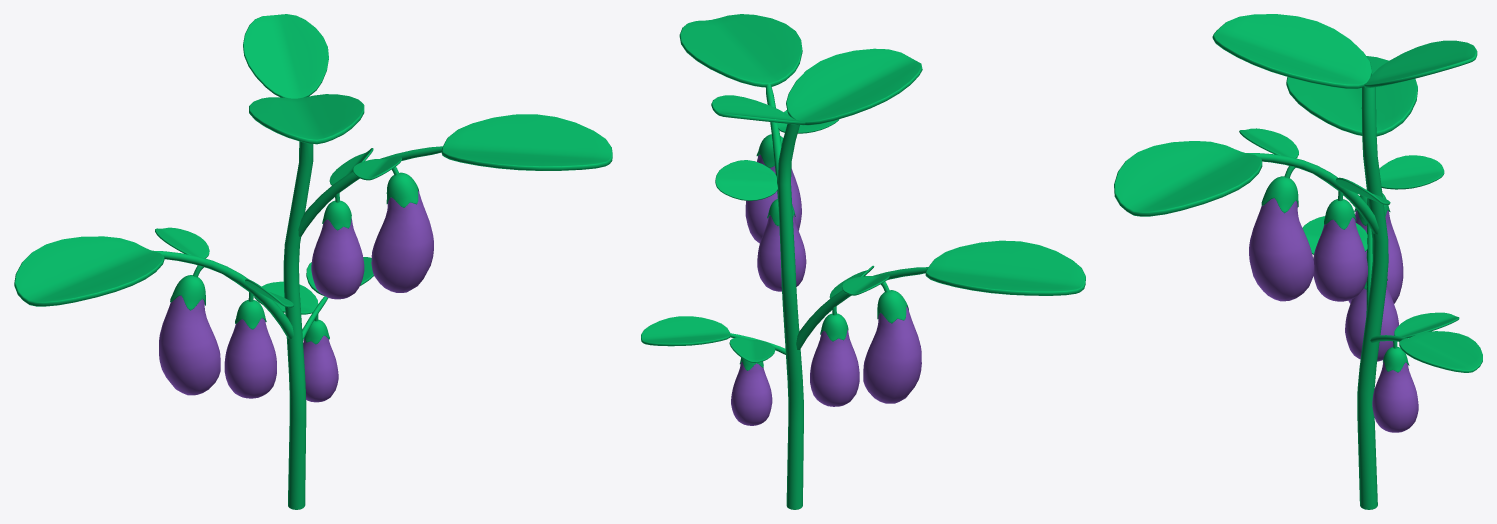
File: Farm_11_Eggplant_Bush_1.glb
The picture shows the model from 3 angles, left to right: view 1: azimuth 30°, elevation 25°; view 2: azimuth 150°, elevation 25°; view 3: azimuth 270°, elevation 25°; orthographic projection. The views are drawn at different scales.
Parts seen in each view (by area): view 1: Farm_11_Eggplant_Bush_1; view 2: Farm_11_Eggplant_Bush_1; view 3: Farm_11_Eggplant_Bush_1.
Boxes of the visible parts, box(x1,y1,x2,y2) form: Farm_11_Eggplant_Bush_1: box(14, 14, 612, 509); Farm_11_Eggplant_Bush_1: box(641, 14, 1085, 509); Farm_11_Eggplant_Bush_1: box(1114, 14, 1482, 509).
Bounding box in the file's own units: 1.57 × 1.35 × 0.9673.
1 material, 1 textured.
